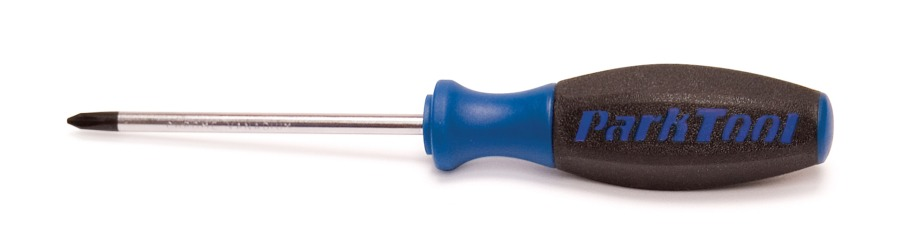screwdriver: (64, 63, 845, 183)
